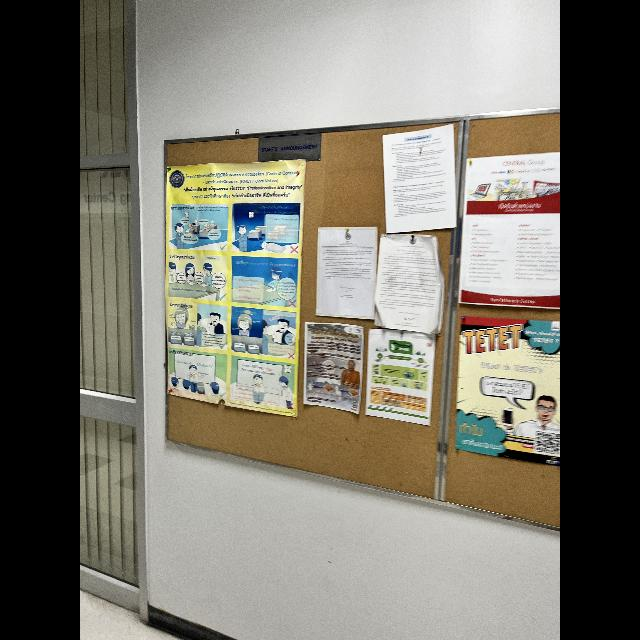reuseable_paper: (163, 154, 307, 412), (313, 132, 459, 332), (456, 144, 560, 312), (452, 309, 560, 466), (299, 316, 435, 428)
